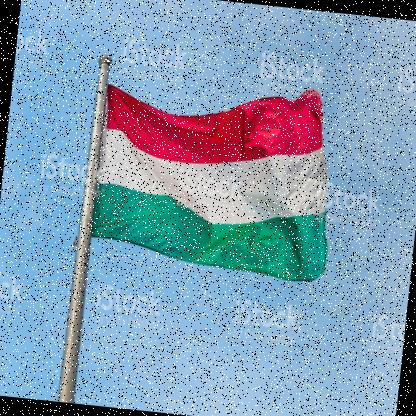hu: (87, 78, 345, 287)
